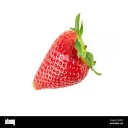strawberry: (32, 15, 102, 91)
